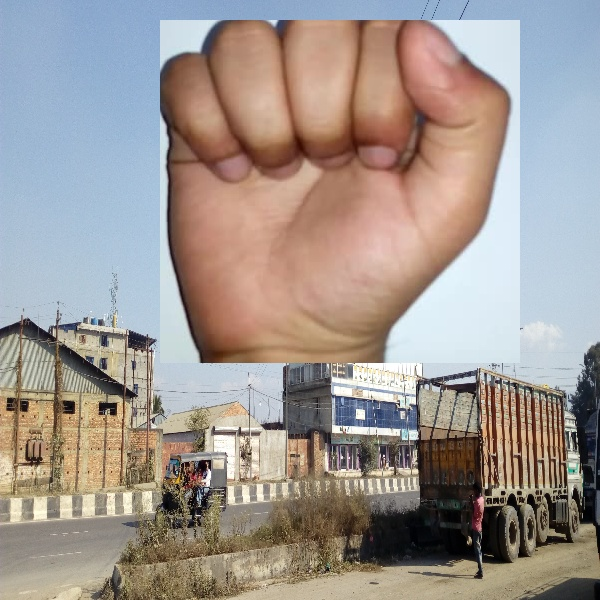A: (160, 20, 520, 363)
